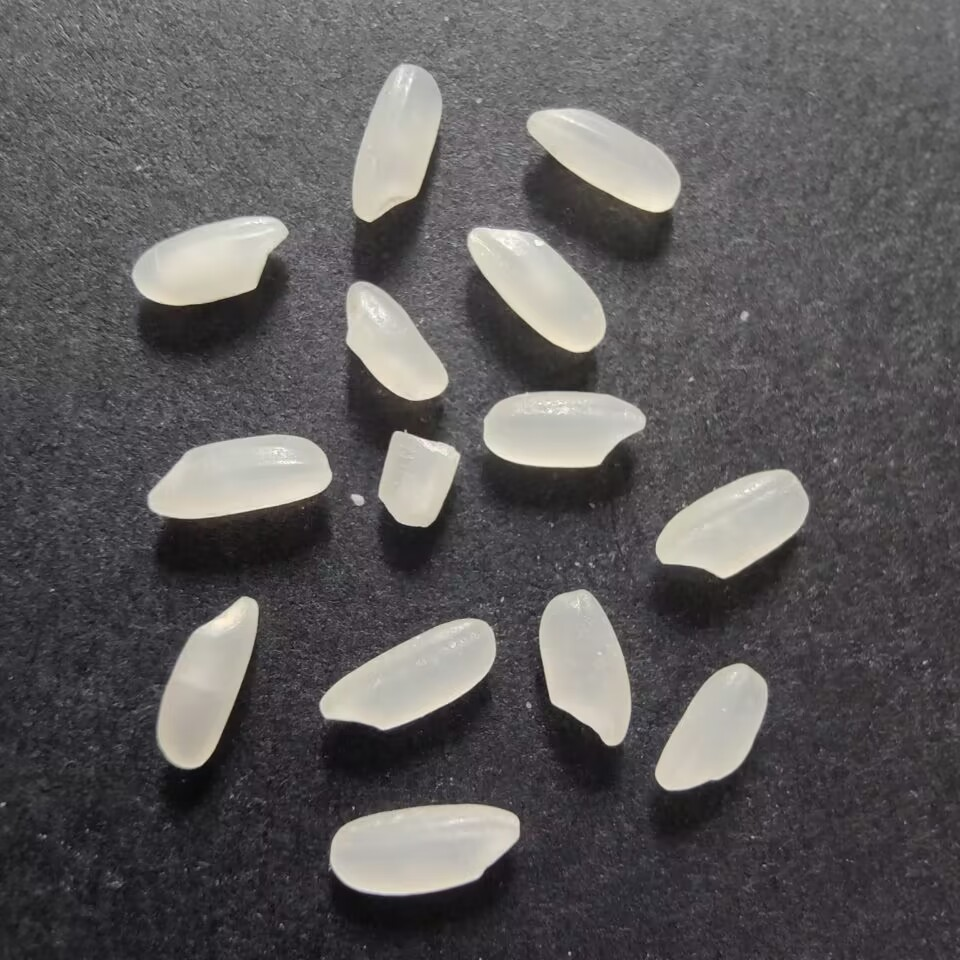broken: (376, 422, 464, 537)
rice: (314, 614, 500, 735), (460, 217, 611, 356), (151, 588, 261, 770), (518, 99, 687, 215), (648, 462, 810, 583), (327, 802, 522, 899), (142, 428, 335, 523), (345, 60, 448, 232), (120, 210, 293, 310), (651, 659, 775, 796), (537, 586, 634, 754), (339, 274, 454, 403), (477, 389, 651, 470)
